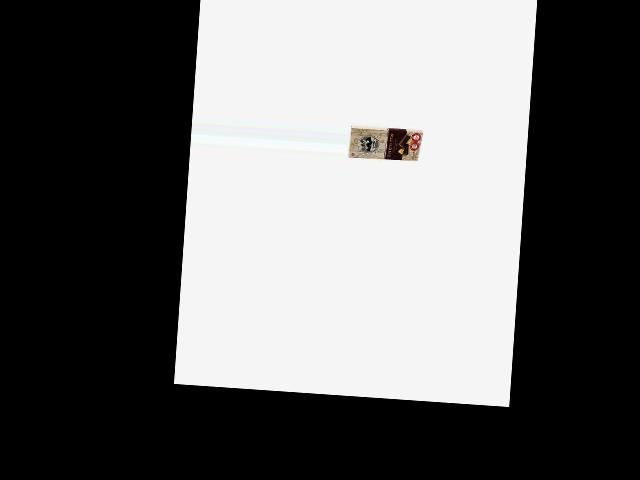chocolate: (348, 119, 424, 163)
